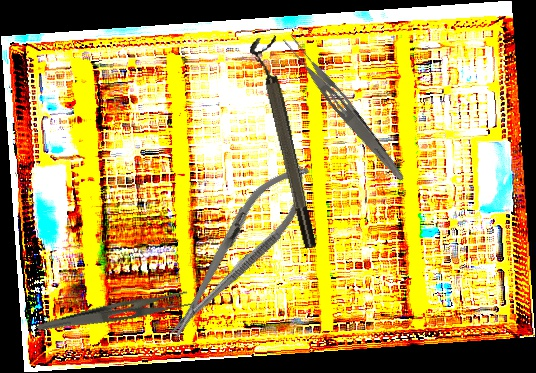Dressing Forceps: (277, 30, 413, 185), (36, 281, 200, 349)
Fixation Ring: (247, 34, 321, 252)
Needle Holder: (152, 150, 325, 351)
